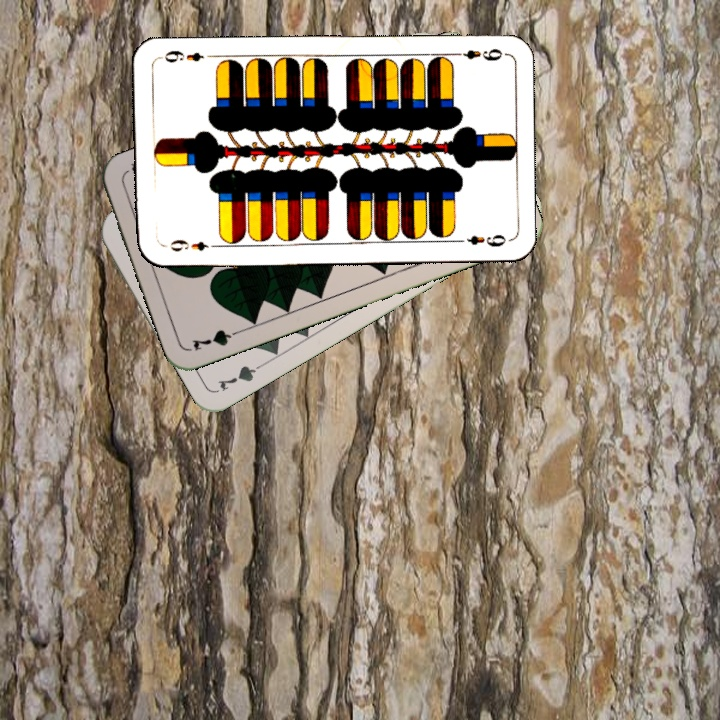E9: (448, 44, 505, 64), (167, 236, 219, 254)
G7: (213, 357, 269, 395), (187, 324, 246, 353)
